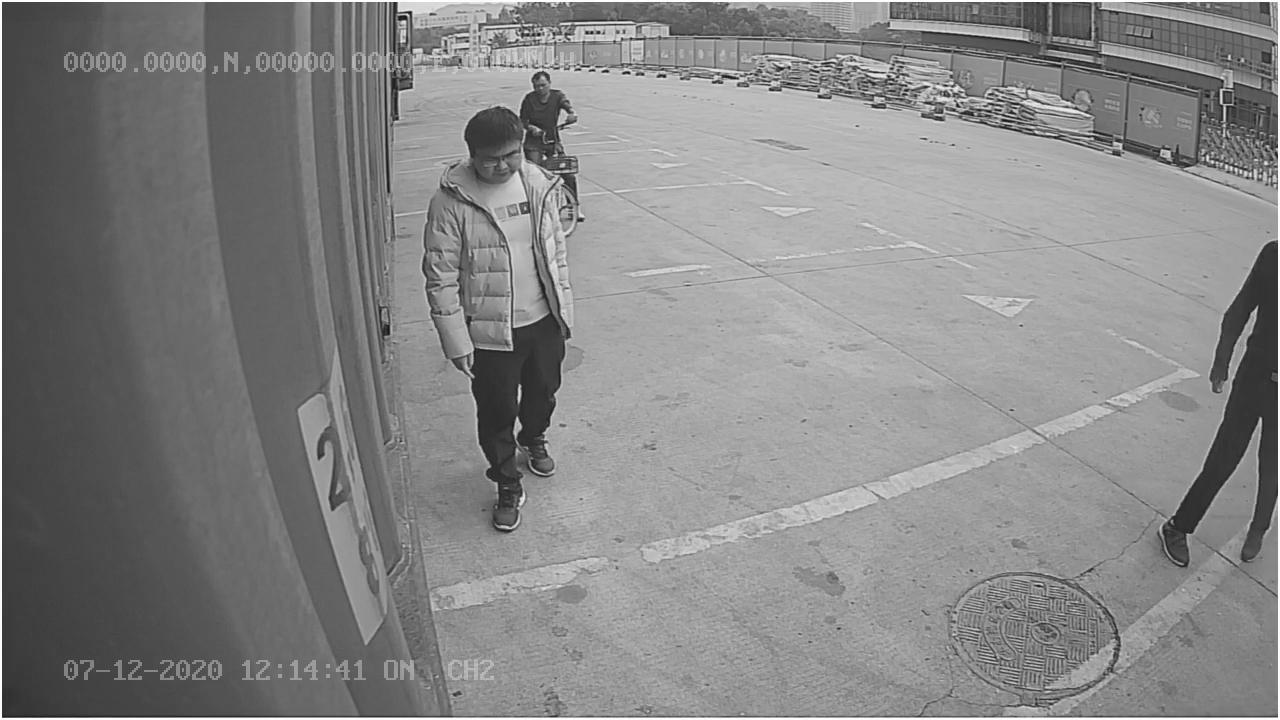person: (424, 106, 571, 532)
